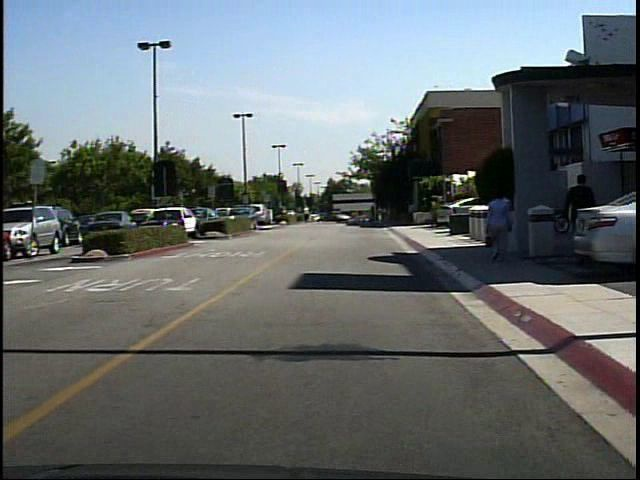person: (565, 168, 607, 271), (486, 187, 517, 267), (497, 189, 516, 263), (378, 205, 391, 229), (306, 203, 317, 228)
